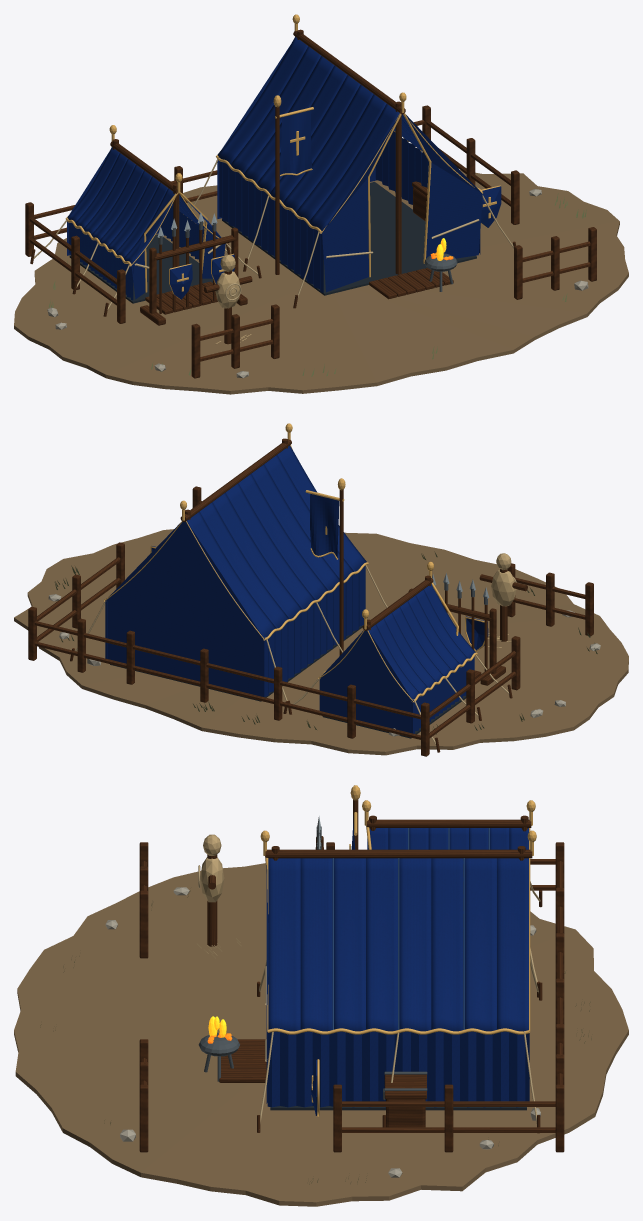
Rendered from Cuartel_ChatGPT_v1.glb.
The picture shows the model from 3 angles, top to bottom: view 1: azimuth 30°, elevation 25°; view 2: azimuth 150°, elevation 25°; view 3: azimuth 270°, elevation 25°; orthographic projection. The views are drawn at different scales.
Parts seen in each view (by area): view 1: Removable dirt ground patch, Command pavilion pleated side canvas, Command pavilion gathered front flap.001, Command pavilion floor mat, Command pavilion gathered front flap, Command pavilion tailored roof panel.001, Command pavilion tailored roof panel.002, Command pavilion tailored roof panel.007, Command pavilion tailored roof panel, Command pavilion tailored roof panel.006, Command pavilion pleated side canvas.001, Command pavilion tailored roof panel.003 (+29 smaller); view 2: Removable dirt ground patch, Command pavilion back canvas, Command pavilion pleated side canvas, Recruit shelter back canvas, Command pavilion tailored roof panel.003, Command pavilion tailored roof panel.006, Command pavilion tailored roof panel.004, Command pavilion tailored roof panel.005, Command pavilion tailored roof panel.002, Command pavilion tailored roof panel.007, Command pavilion tailored roof panel.001, Wind-rippled royal standard (+27 smaller); view 3: Removable dirt ground patch, Command pavilion pleated side canvas.001, Command pavilion tailored roof panel.009, Command pavilion tailored roof panel.013, Command pavilion tailored roof panel.014, Command pavilion tailored roof panel.012, Command pavilion tailored roof panel.008, Command pavilion tailored roof panel.010, Command pavilion tailored roof panel.011, Command pavilion tailored roof panel.015, Command pavilion ridge beam, Recruit shelter ridge beam (+12 smaller).
Boxes of the visible parts, box(x1,y1,x2,y2) form: Removable dirt ground patch: box(14, 170, 628, 394); Command pavilion pleated side canvas: box(219, 161, 323, 292); Command pavilion gathered front flap.001: box(406, 115, 482, 258); Command pavilion floor mat: box(222, 181, 476, 295); Command pavilion gathered front flap: box(322, 116, 398, 292); Command pavilion tailored roof panel.001: box(296, 94, 386, 221); Command pavilion tailored roof panel.002: box(283, 84, 373, 211); Command pavilion tailored roof panel.007: box(217, 36, 307, 163); Command pavilion tailored roof panel: box(309, 104, 399, 232); Command pavilion tailored roof panel.006: box(230, 46, 321, 173); Command pavilion pleated side canvas.001: box(375, 131, 480, 254); Command pavilion tailored roof panel.003: box(270, 75, 360, 202); Removable dirt ground patch: box(14, 529, 628, 755); Command pavilion back canvas: box(105, 522, 264, 696); Command pavilion pleated side canvas: box(264, 566, 365, 696); Recruit shelter back canvas: box(319, 630, 412, 733); Command pavilion tailored roof panel.003: box(238, 474, 327, 599); Command pavilion tailored roof panel.006: box(199, 502, 289, 628); Command pavilion tailored roof panel.004: box(225, 483, 314, 609); Command pavilion tailored roof panel.005: box(212, 492, 302, 618); Command pavilion tailored roof panel.002: box(251, 464, 339, 590); Command pavilion tailored roof panel.007: box(187, 511, 276, 638); Command pavilion tailored roof panel.001: box(264, 455, 353, 580); Wind-rippled royal standard: box(310, 494, 339, 558); Removable dirt ground patch: box(14, 863, 628, 1206); Command pavilion pleated side canvas.001: box(267, 1031, 529, 1107); Command pavilion tailored roof panel.009: box(300, 858, 332, 1031); Command pavilion tailored roof panel.013: box(431, 858, 463, 1031); Command pavilion tailored roof panel.014: box(464, 858, 496, 1031); Command pavilion tailored roof panel.012: box(399, 858, 431, 1031); Command pavilion tailored roof panel.008: box(268, 858, 300, 1031); Command pavilion tailored roof panel.010: box(334, 858, 365, 1031); Command pavilion tailored roof panel.011: box(366, 858, 397, 1031); Command pavilion tailored roof panel.015: box(497, 858, 529, 1031); Command pavilion ridge beam: box(265, 849, 532, 858); Recruit shelter ridge beam: box(366, 819, 531, 827).
Bounding box in the file's own units: 11.37 × 3.67 × 8.58.
14 materials, 2 textured.
